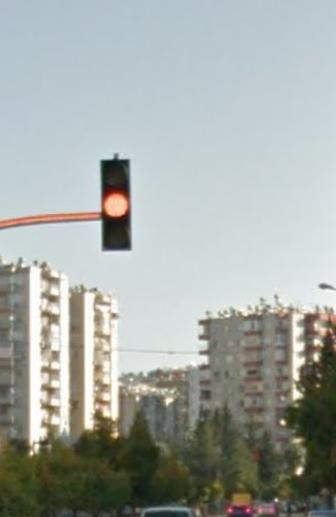redlight: (98, 157, 134, 250)
